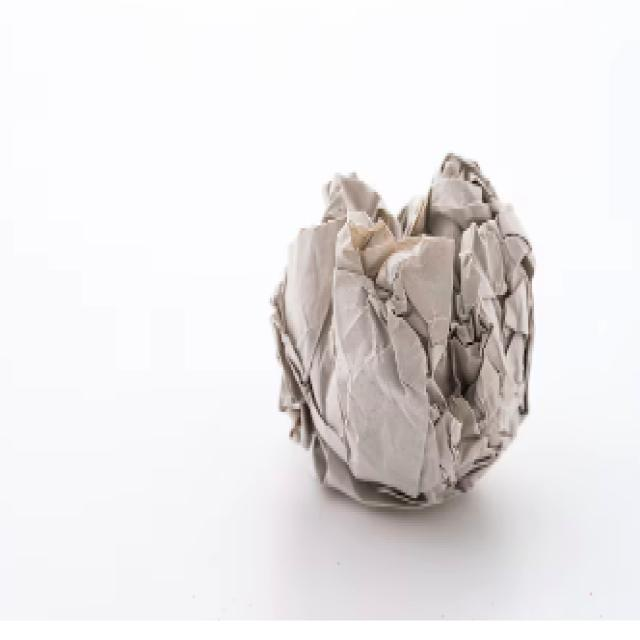Koran: (268, 150, 536, 509)
